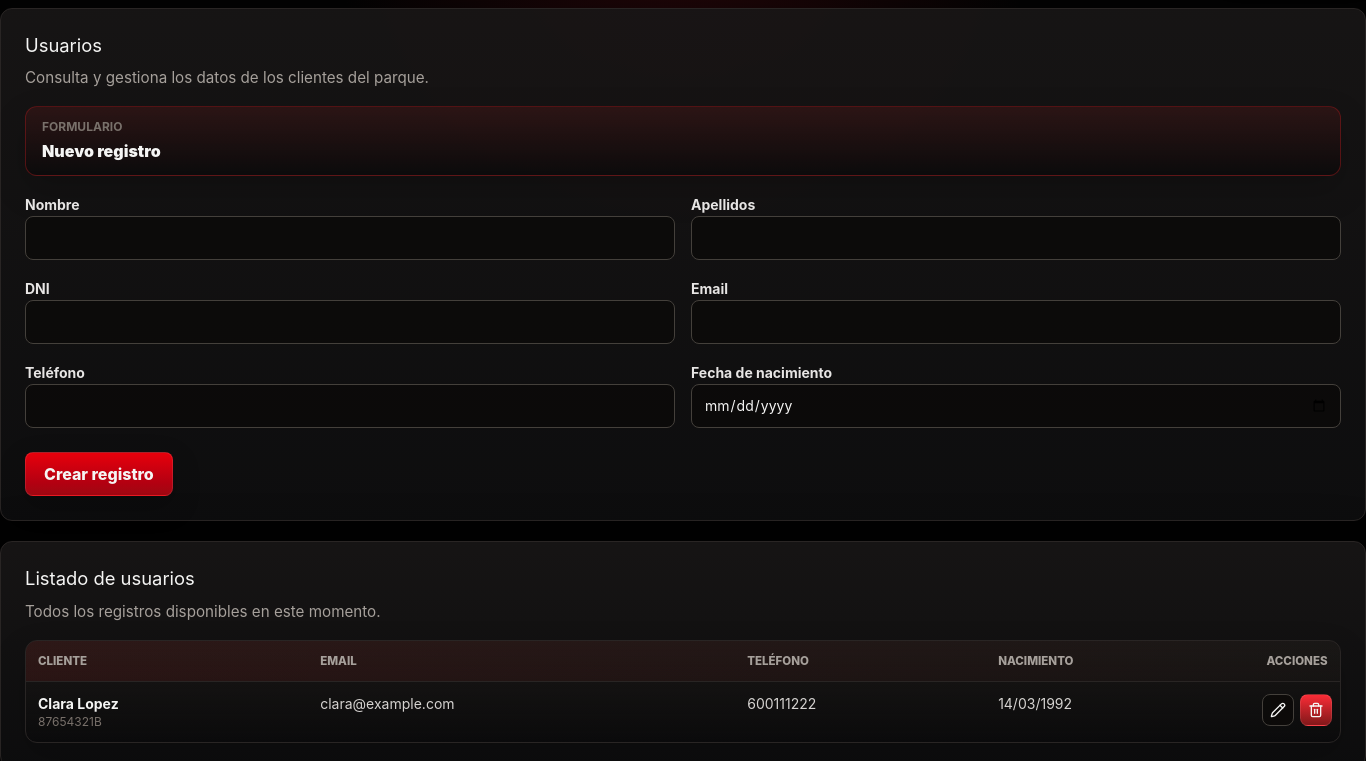
Test: DashboardPage › edits and deletes users from the entity manager
The width and height of the screenshot is (1366, 761).
(page scrolled)
Click the button named "Editar registro": coordinates (1278, 710) x1=1262 y1=694 x2=1294 y2=726
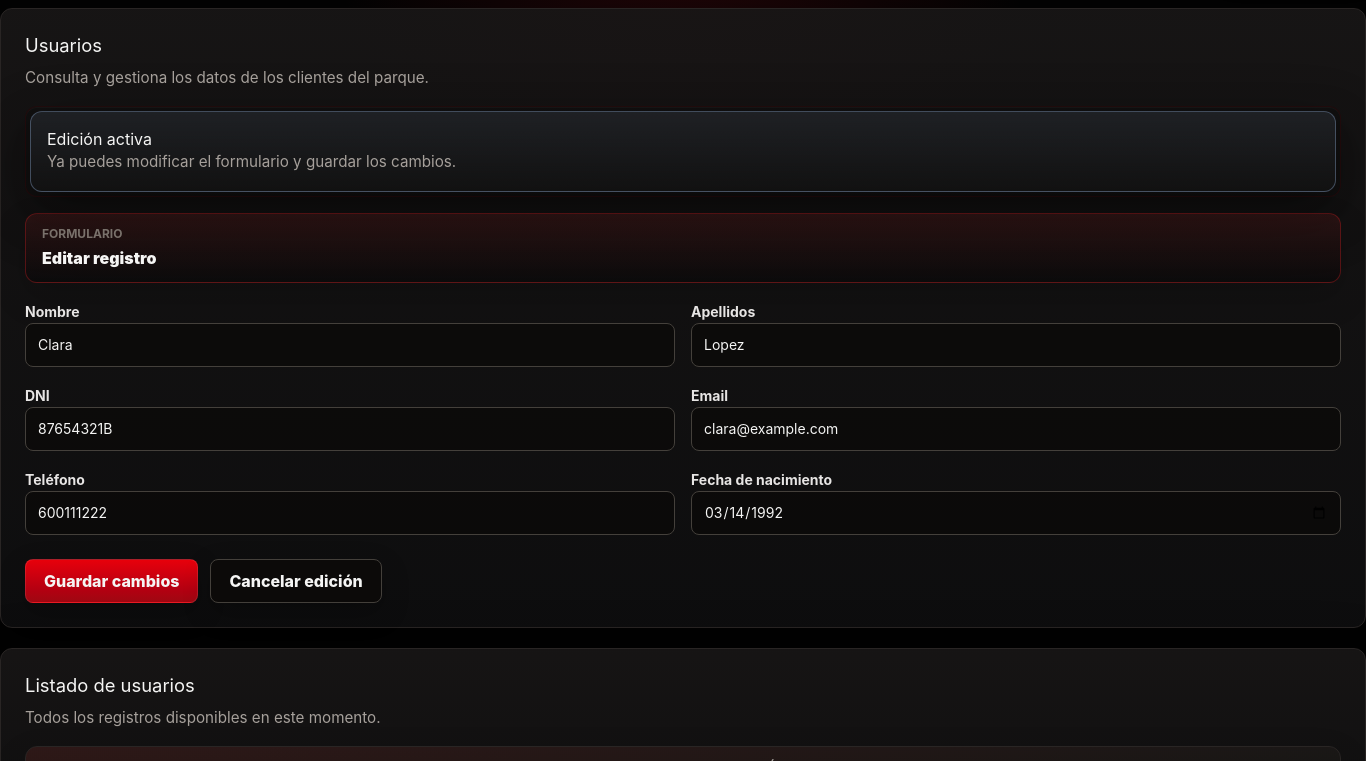
Replace the text in the field labelled "Email" with "clara+editada@example.com": coordinates (1016, 429) x1=691 y1=407 x2=1341 y2=451
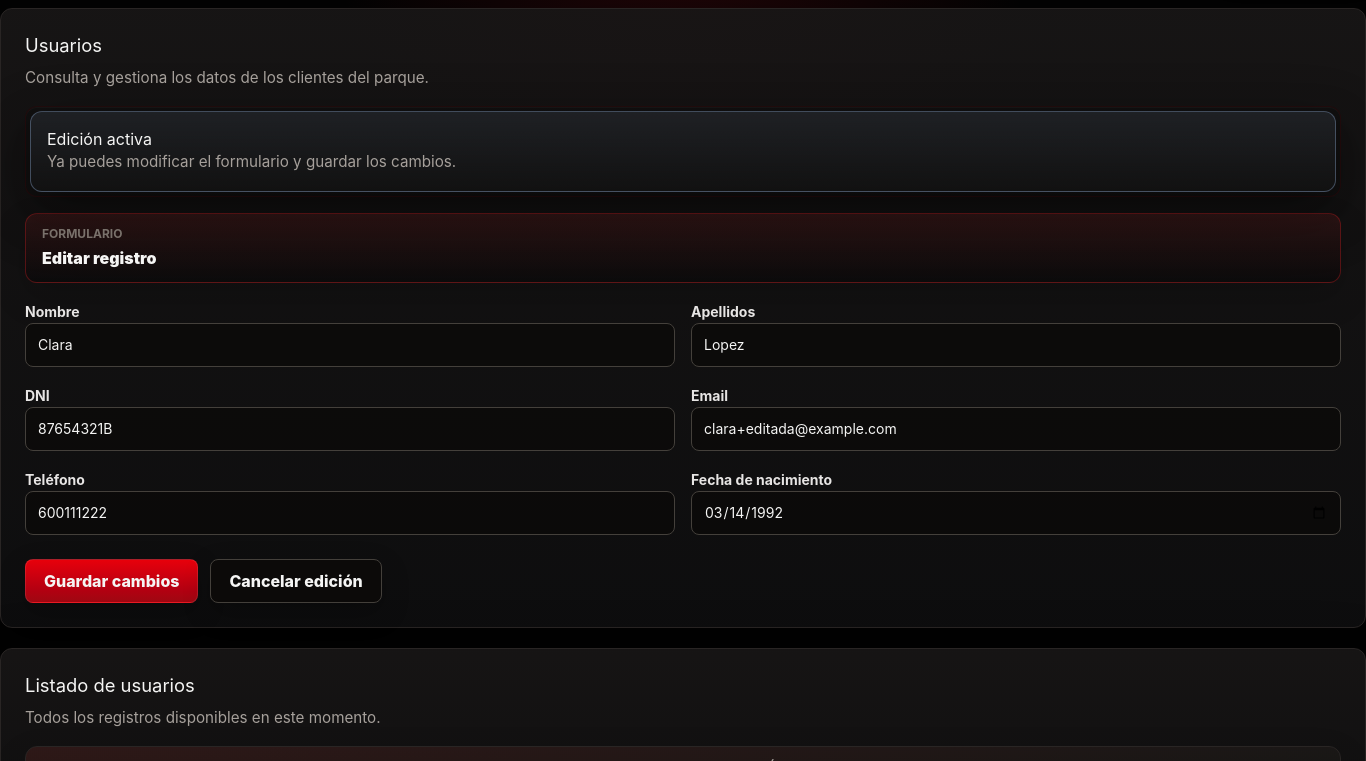
Click the button "Guardar cambios": coordinates (112, 581) x1=25 y1=559 x2=198 y2=603
(page scrolled)
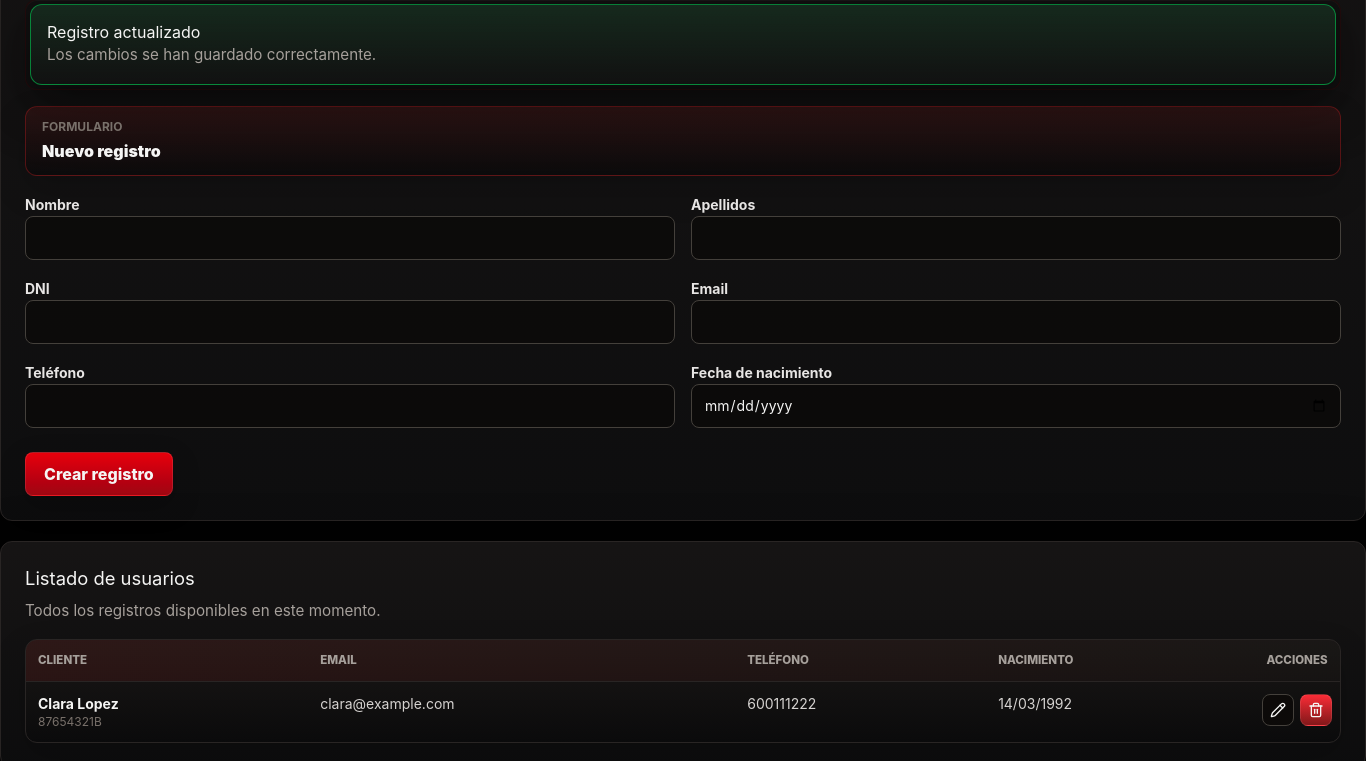
Expected: the text "Los cambios se han guardado correctamente." is shown, x1=47 y1=45 x2=376 y2=64
Click the button named "Eliminar registro": coordinates (1316, 710) x1=1300 y1=694 x2=1332 y2=726
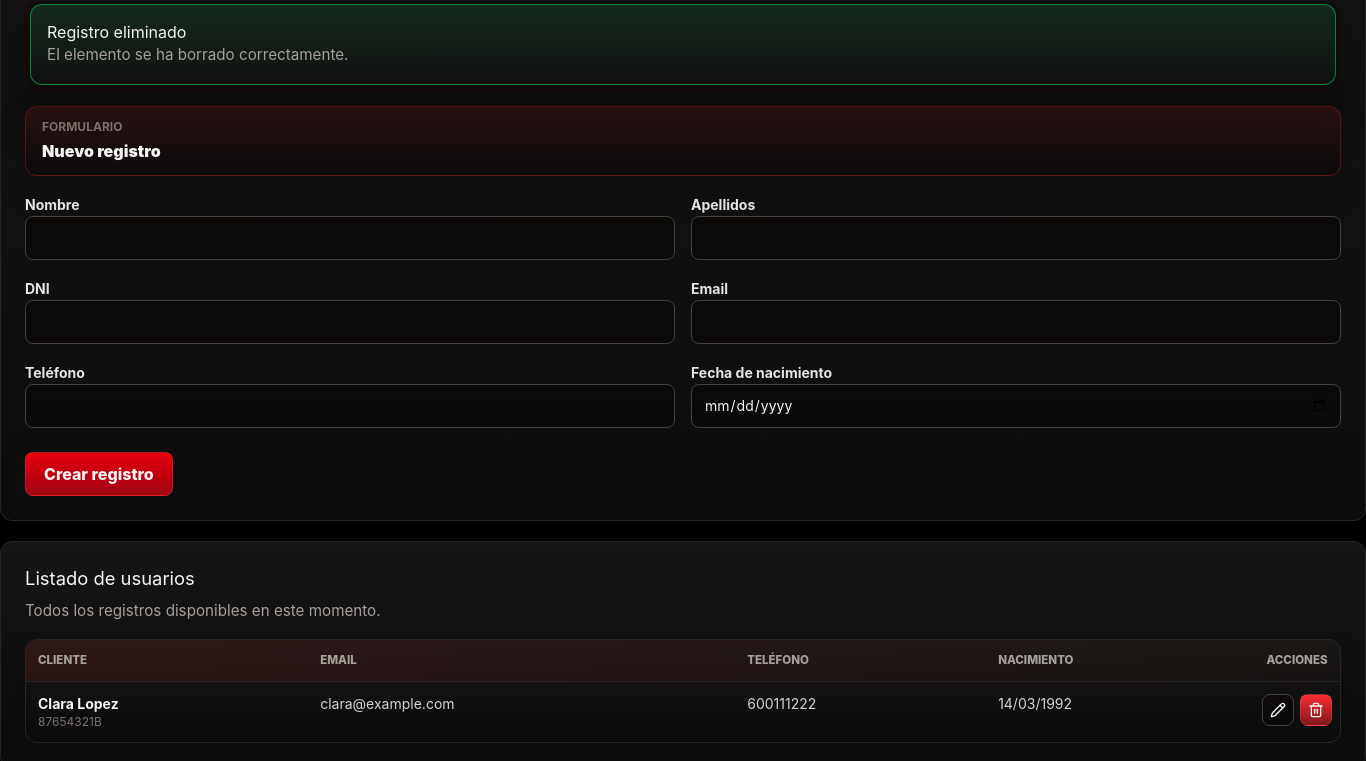
Expected: the text "El elemento se ha borrado correctamente." is shown, x1=47 y1=45 x2=348 y2=64
